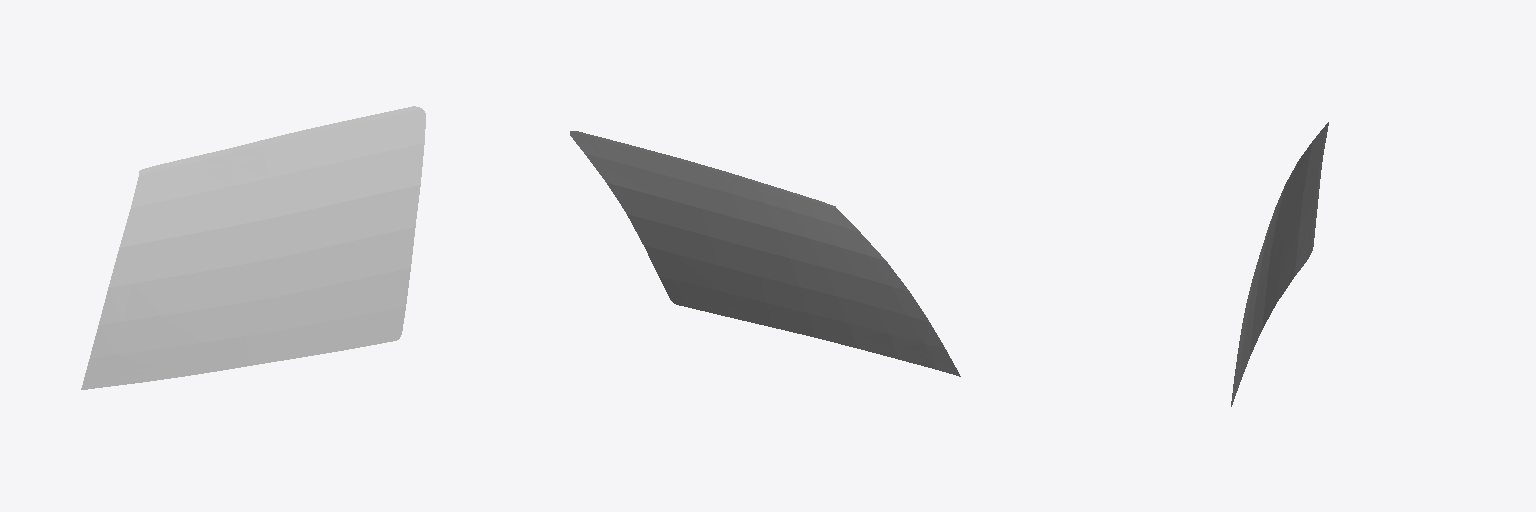
The picture shows the model from 3 angles: view 1: azimuth 30°, elevation 25°; view 2: azimuth 150°, elevation 25°; view 3: azimuth 270°, elevation 25°; orthographic projection.
Visible parts, largest first — view 1: J731_40SG_R_1_DTaSI_J731_40SG_R, J731_40SG_R_J731_40SG_R_2_DTaSI; view 2: J731_40SG_R_1_DTaSI_J731_40SG_R, J731_40SG_R_J731_40SG_R_2_DTaSI; view 3: J731_40SG_R_1_DTaSI_J731_40SG_R, J731_40SG_R_J731_40SG_R_2_DTaSI.
Boxes of the visible parts, <box> form: J731_40SG_R_1_DTaSI_J731_40SG_R: <box>117,124,410,370</box>; J731_40SG_R_J731_40SG_R_2_DTaSI: <box>81,106,425,389</box>; J731_40SG_R_1_DTaSI_J731_40SG_R: <box>591,144,923,354</box>; J731_40SG_R_J731_40SG_R_2_DTaSI: <box>570,131,960,376</box>; J731_40SG_R_1_DTaSI_J731_40SG_R: <box>1235,143,1318,390</box>; J731_40SG_R_J731_40SG_R_2_DTaSI: <box>1231,122,1328,406</box>.
Bounding box in the file's own units: 107 × 52.75 × 24.68.